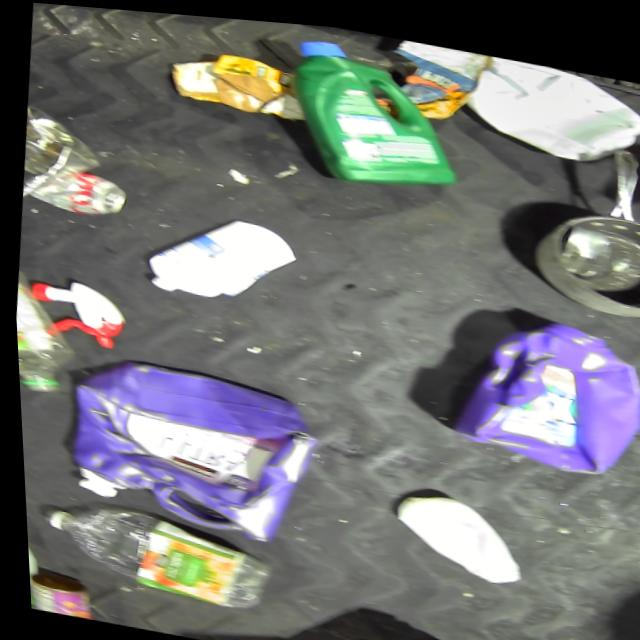can: (19, 161, 130, 221), (23, 568, 89, 618)
milk_jug: (459, 42, 640, 163), (21, 516, 39, 606)
non_white_jug: (52, 346, 319, 548), (438, 294, 640, 475), (281, 29, 469, 194)
plastic_bottle: (35, 493, 274, 612), (11, 267, 80, 399)
